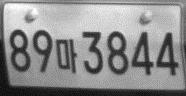3: (81, 30, 103, 75)
4: (154, 32, 181, 77), (131, 31, 153, 77)
8: (106, 31, 129, 75), (8, 29, 31, 72)
9: (32, 29, 53, 74)
마: (54, 37, 78, 74)
